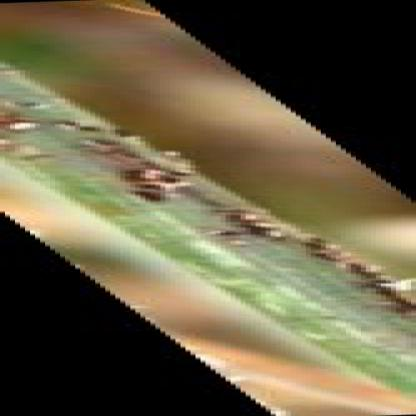wheat Stem Rust: (104, 159, 198, 196), (15, 117, 108, 147), (210, 213, 296, 242), (356, 268, 400, 310), (294, 247, 367, 261)
